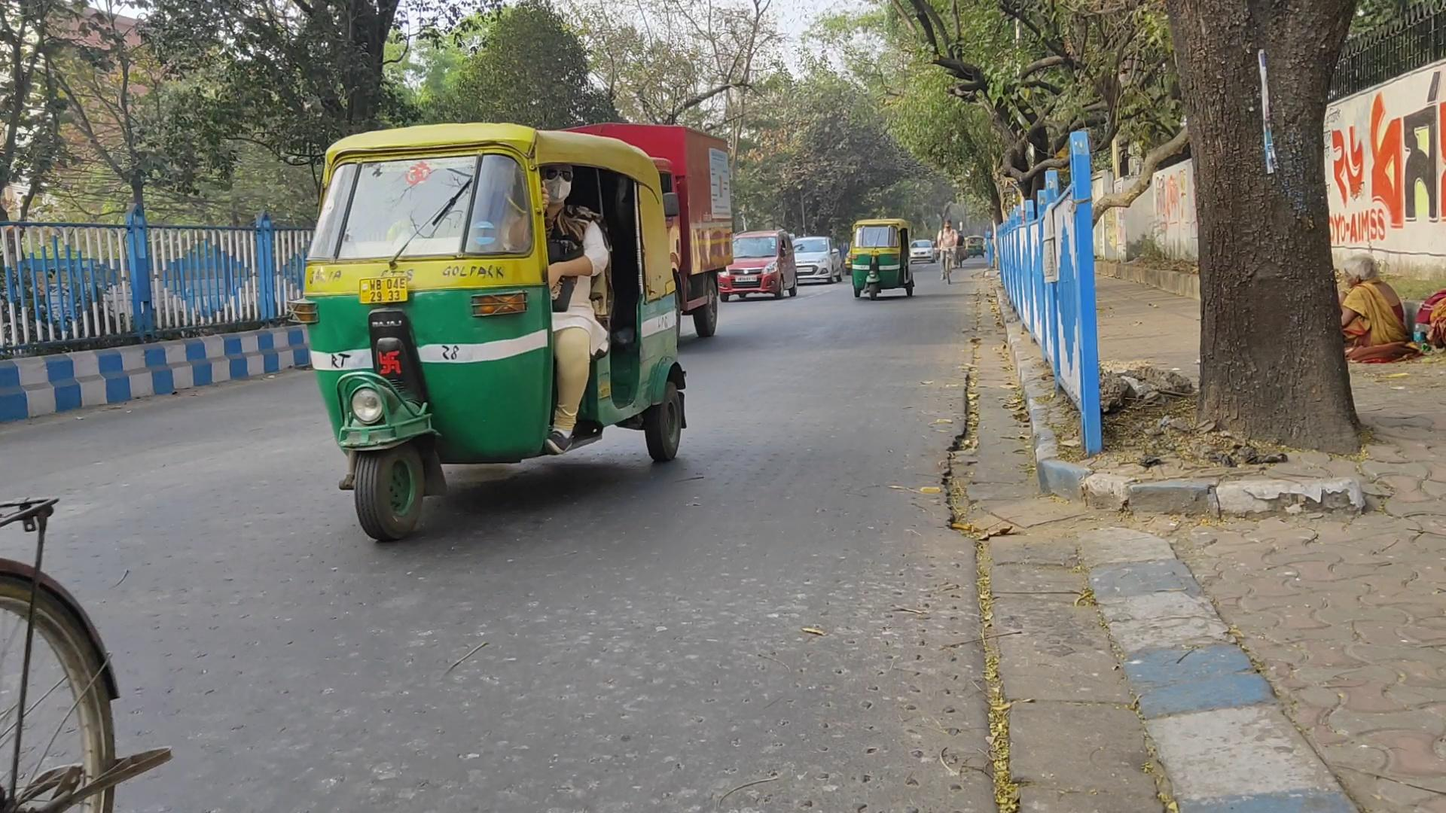Auto: (286, 120, 689, 541), (849, 218, 915, 301), (966, 235, 985, 260)
bike: (935, 220, 959, 285)
car: (718, 230, 798, 303), (790, 236, 843, 285), (908, 238, 937, 266)
van: (559, 122, 736, 347)
